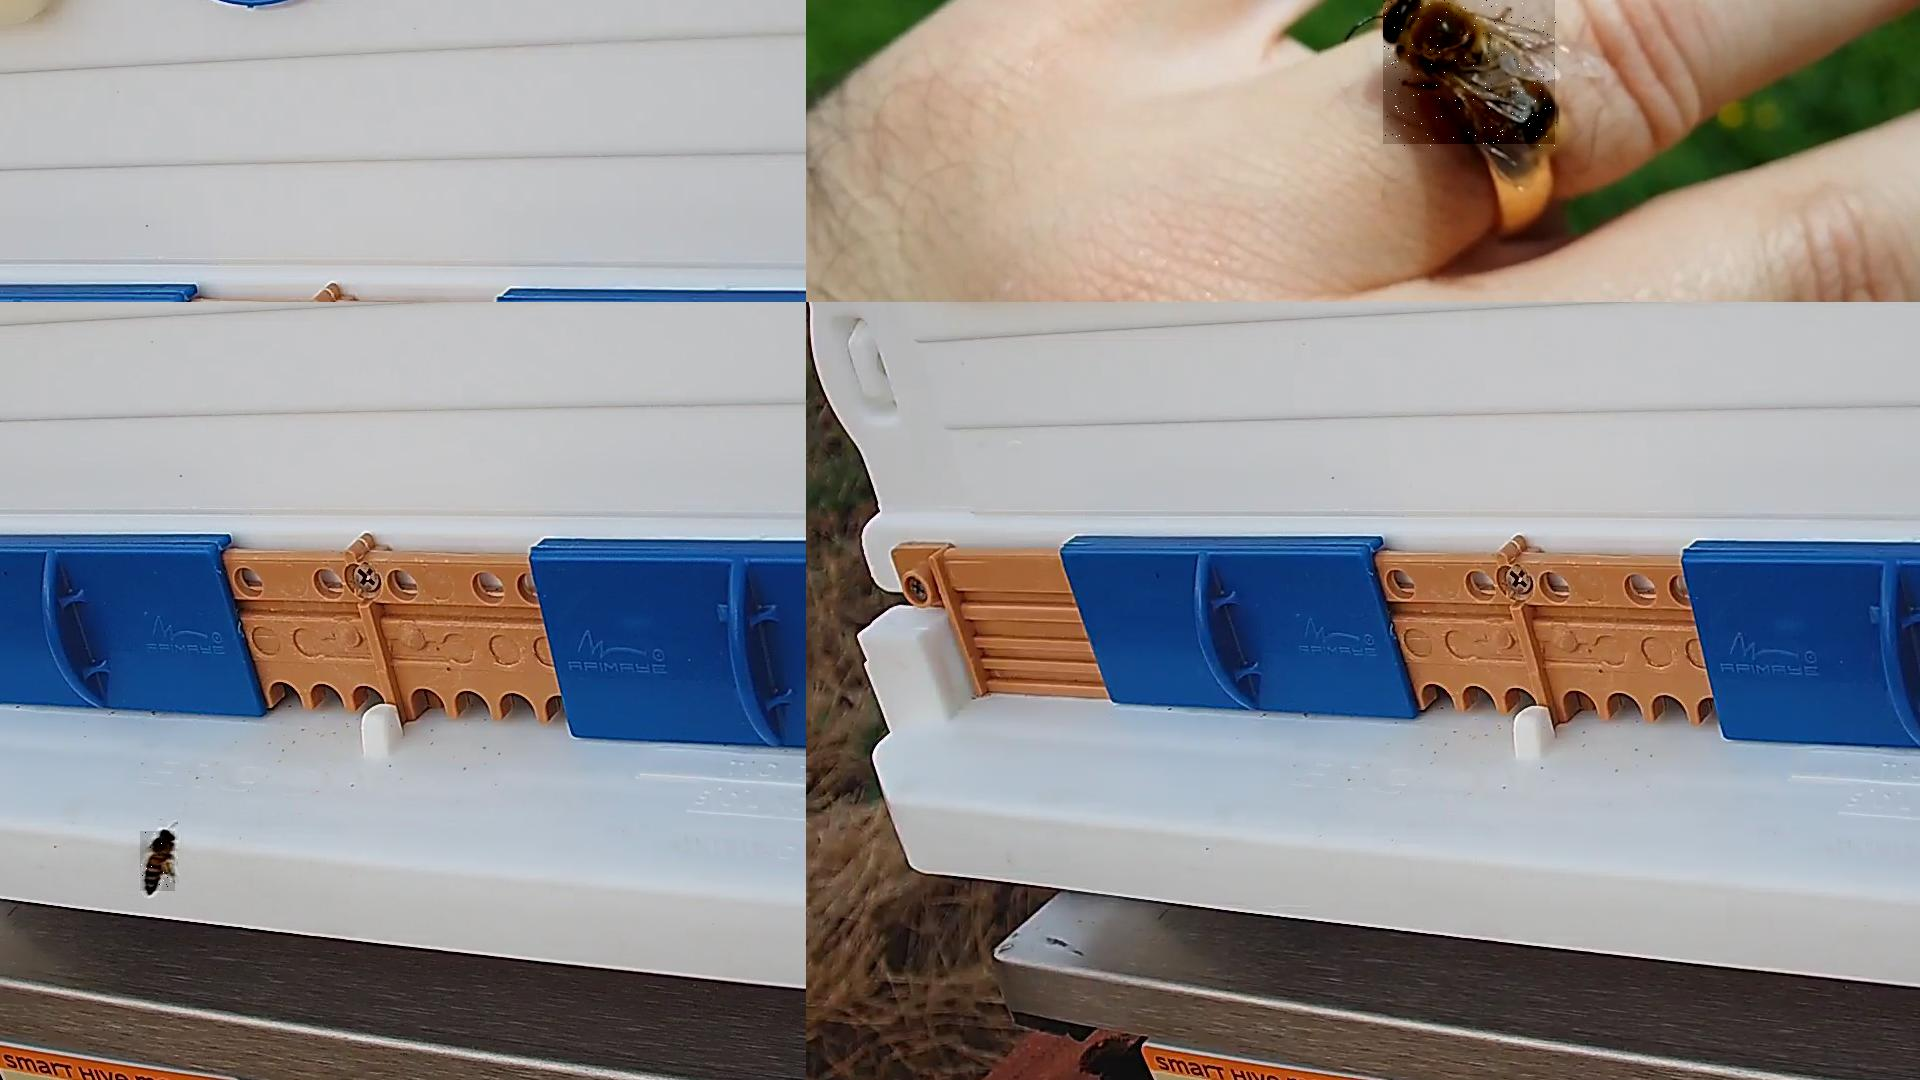drone: (1383, 0, 1559, 148)
pollenbee: (140, 831, 177, 893)
